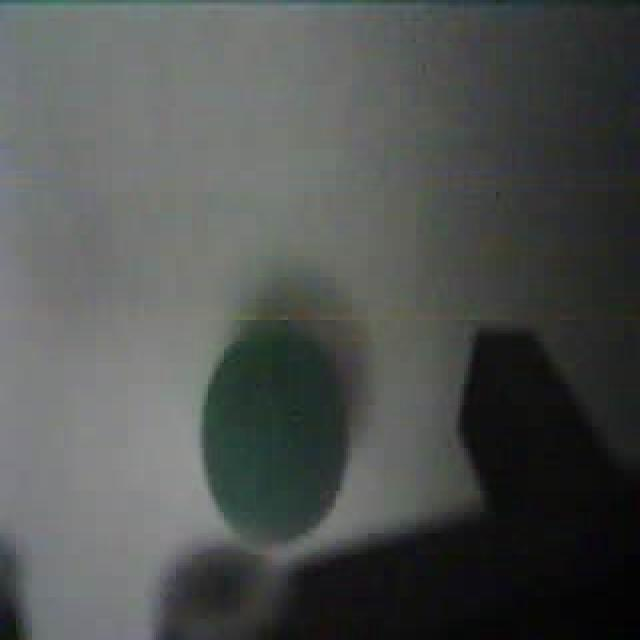green_ball: (196, 320, 354, 549)
